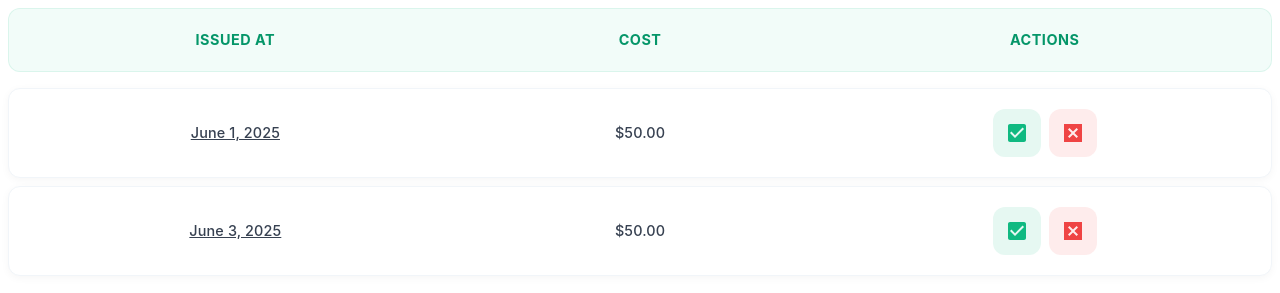
Test case: rejectChallenge successfully rejects challenge on click
The image size is (1280, 293).
Check: the text "June 1, 2025" is shown, box [191,124,280,141]
Check: the text "June 3, 2025" is shown, box [189,222,281,239]
Click the button named "reject-challenge0". click: (1073, 133)
box: [1049,109,1097,157]
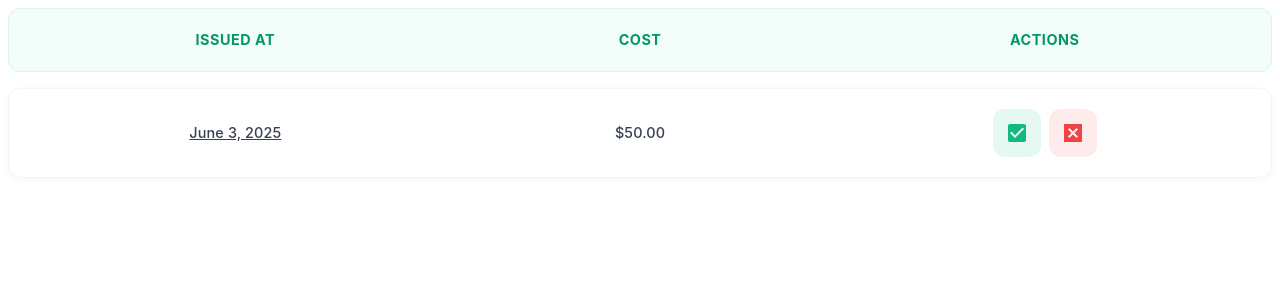
Check: the text "June 3, 2025" is shown, box [189,124,281,141]
Check: the text "June 1, 2025" is gone
